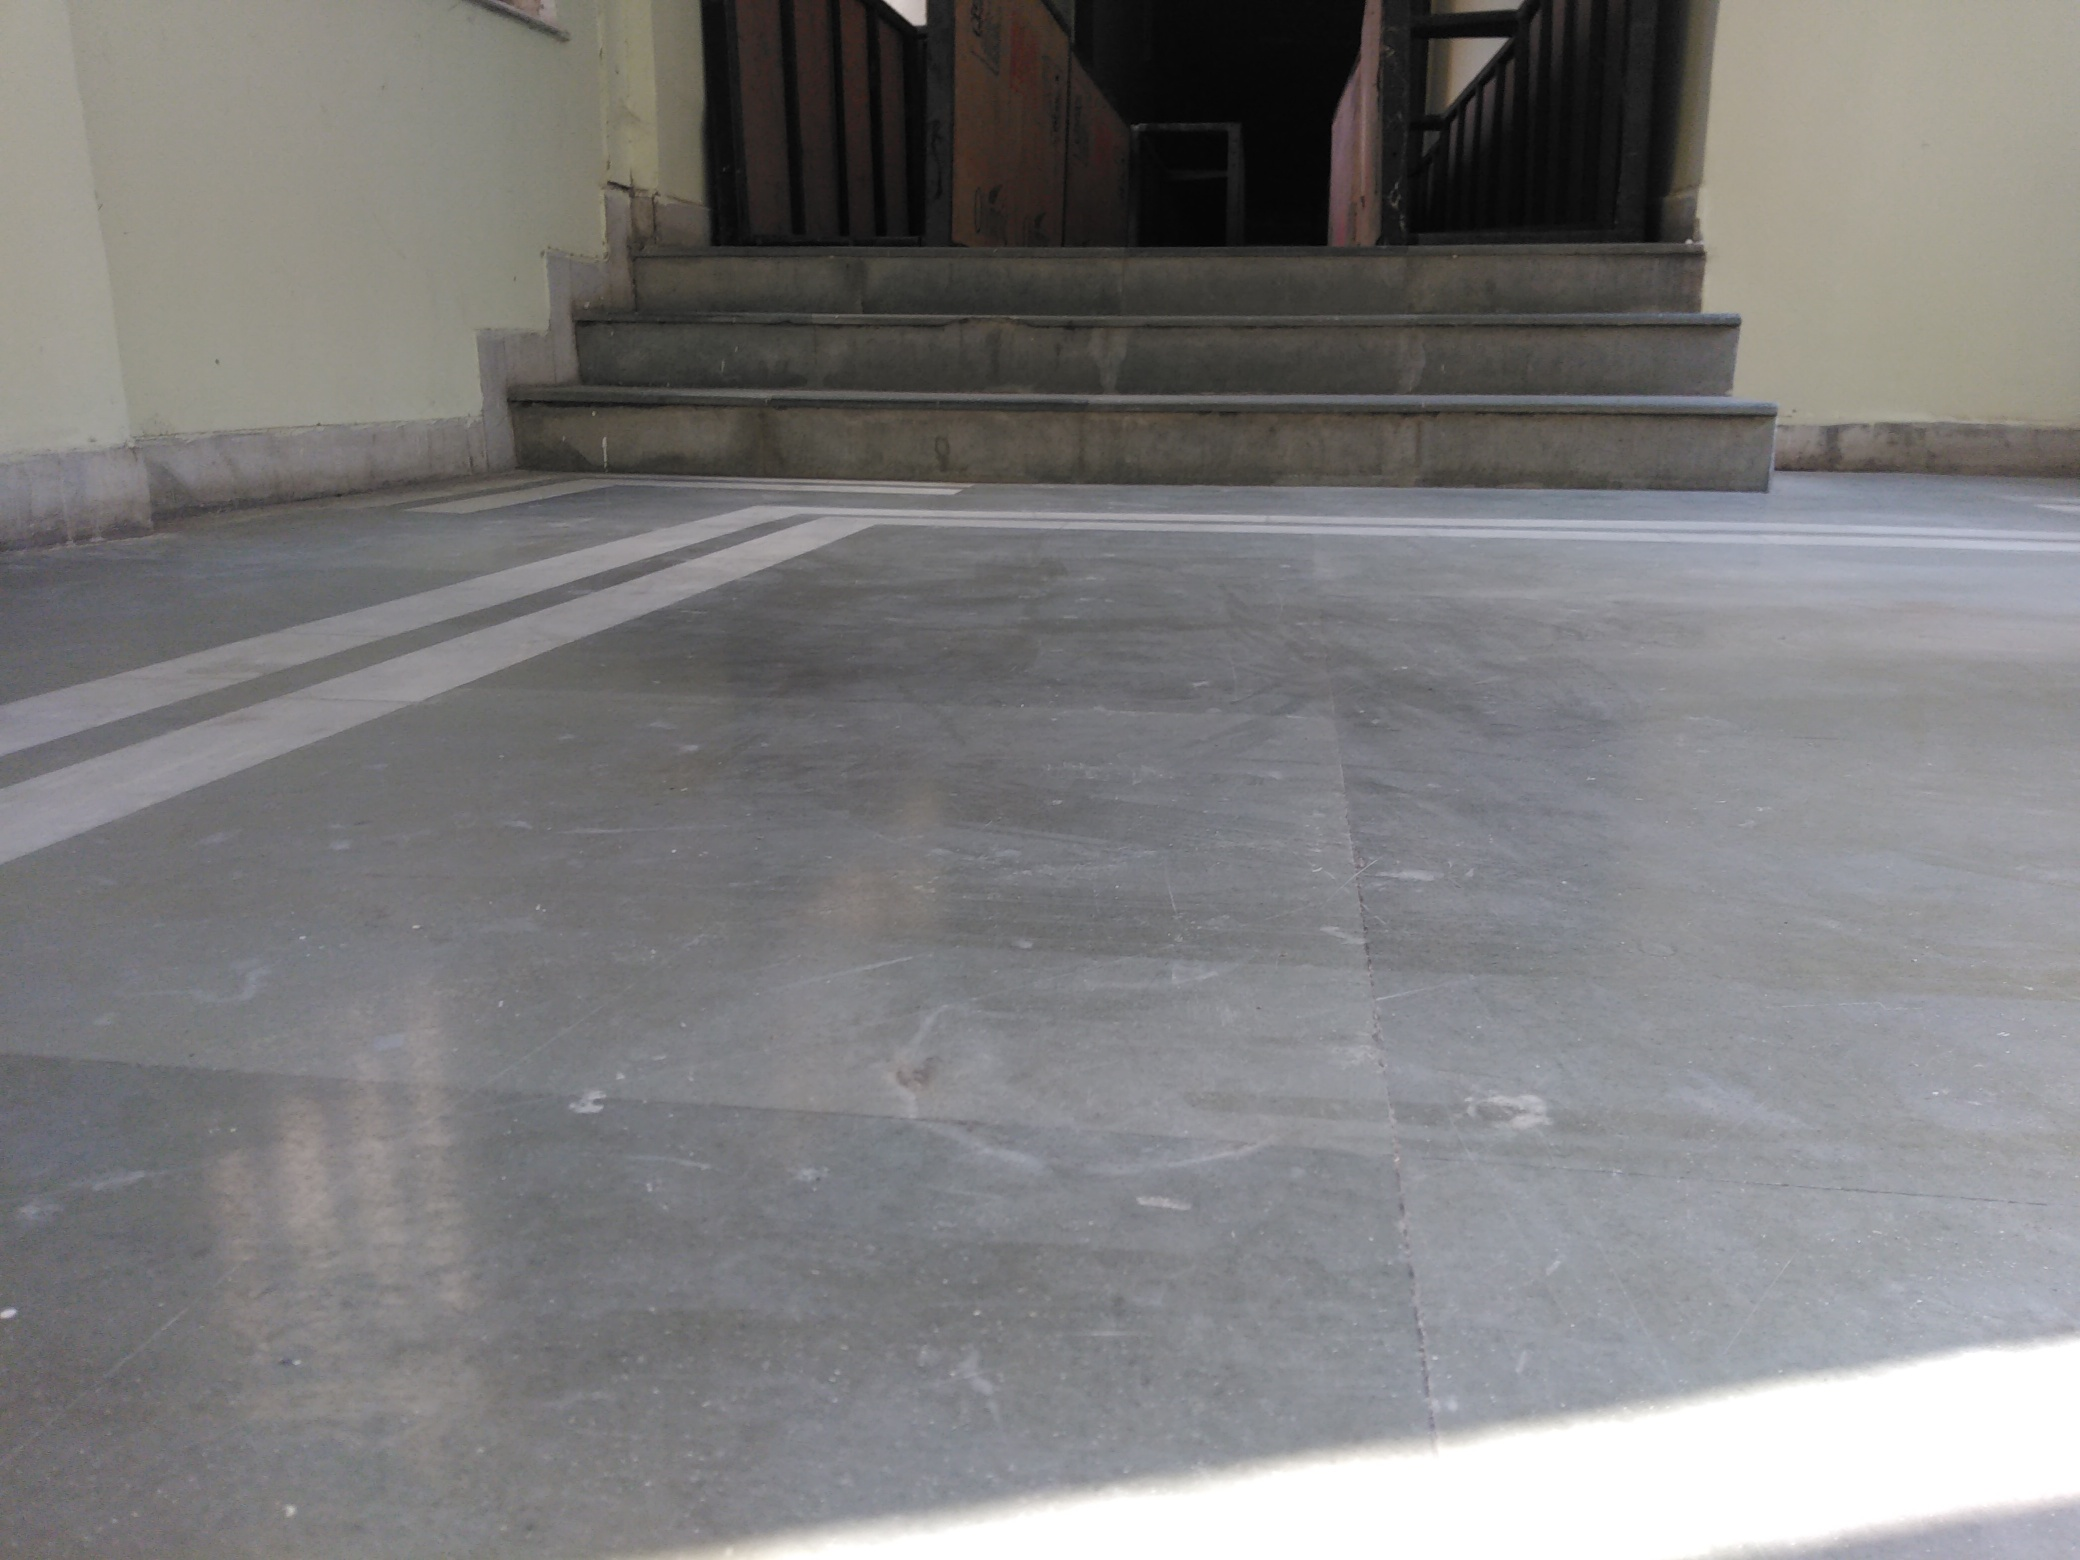stairs_up: (524, 243, 1779, 490)
